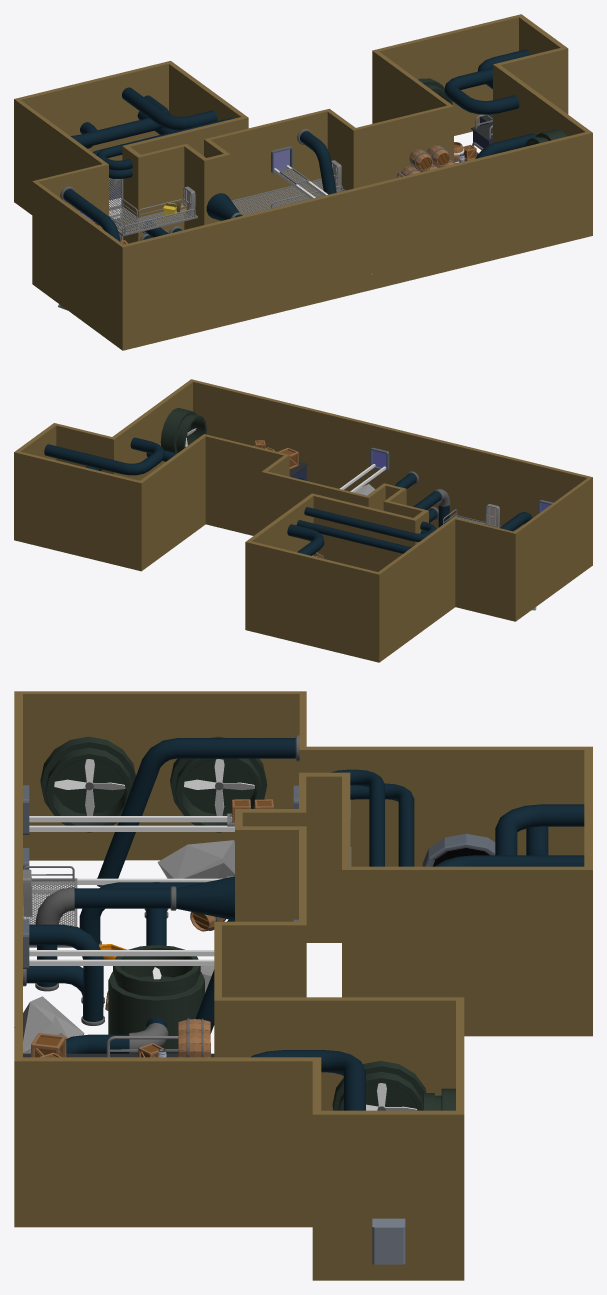
File: Room3Model1.fbx
The picture shows the model from 3 angles, top to bottom: view 1: azimuth 30°, elevation 25°; view 2: azimuth 150°, elevation 25°; view 3: azimuth 270°, elevation 25°; orthographic projection. The views are drawn at different scales.
Parts seen in each view (by area): view 1: R3 Wall (BothSideDeleted), R3 Wall (Top), R3 Wall(Right), Pipe .040, Pipe .038, Pipe .035, Cube.216, Pipe .023, Pipe .022, Cube.199, Pipe .033, Pipe .009 (+4 smaller); view 2: R3 Wall (BothSideDeleted), R3 Wall (Top), R3 Wall(Right), Pipe .040, Cylinder.031, Pipe .033, Pipe .034, Pipe .038, Pipe .009, Cube.226; view 3: R3 Wall (BothSideDeleted), R3 Wall(Right), Cylinder.036, Cylinder.024, Pipe .022, Pipe .009, Cylinder.025, Pipe .039, Pipe .021, Cylinder.023, Pipe .035, Icosphere.025 (+20 smaller).
Boxes of the visible parts, x1,y1,x2,y2 form: R3 Wall (BothSideDeleted): (14, 14, 592, 350); R3 Wall (Top): (18, 62, 168, 160); R3 Wall(Right): (166, 61, 245, 120); Pipe .040: (444, 68, 519, 114); Pipe .038: (122, 87, 217, 130); Pipe .035: (70, 95, 170, 147); Cube.216: (232, 180, 343, 215); Pipe .023: (297, 128, 336, 194); Pipe .022: (60, 186, 120, 241); Cube.199: (109, 207, 194, 233); Pipe .033: (96, 117, 233, 170); Pipe .009: (206, 193, 243, 220); R3 Wall (BothSideDeleted): (14, 379, 592, 662); R3 Wall (Top): (249, 541, 377, 661); R3 Wall(Right): (245, 495, 313, 630); Pipe .040: (44, 437, 164, 475); Cylinder.031: (160, 408, 206, 453); Pipe .033: (304, 507, 436, 541); Pipe .034: (296, 520, 427, 553); Pipe .038: (287, 524, 324, 555); Pipe .009: (413, 488, 450, 527); Cube.226: (370, 447, 389, 471); R3 Wall (BothSideDeleted): (14, 691, 592, 1280); R3 Wall(Right): (350, 866, 592, 1036); Cylinder.036: (108, 945, 204, 1053); Cylinder.024: (40, 736, 135, 832); Pipe .022: (97, 735, 299, 887); Pipe .009: (35, 876, 234, 991); Cylinder.025: (170, 736, 267, 832); Pipe .039: (29, 924, 104, 1025); Pipe .021: (66, 882, 168, 1053); Cylinder.023: (332, 1061, 426, 1110); Pipe .035: (495, 804, 584, 855); Icosphere.025: (157, 840, 234, 878).
Bounding box in the file's own units: 15226 × 2967 × 8613.
